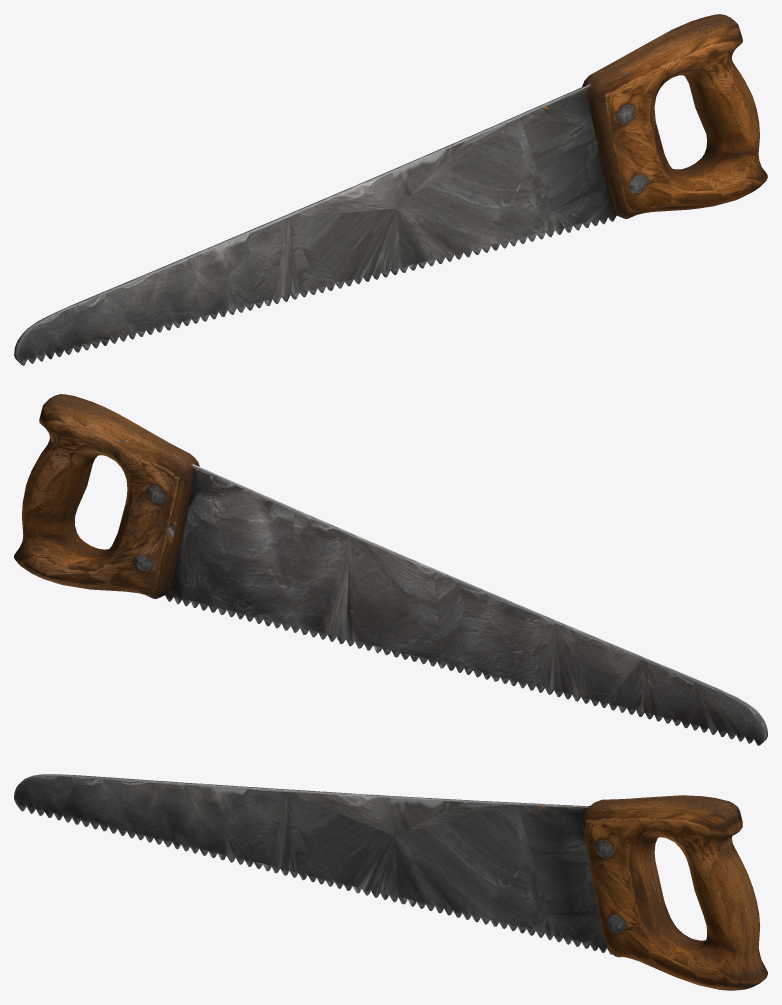
File: Handsaw_Iron_Optimized.glb
The picture shows the model from 3 angles, top to bottom: view 1: azimuth 30°, elevation 25°; view 2: azimuth 150°, elevation 25°; view 3: azimuth 330°, elevation 25°; orthographic projection.
Visible parts, largest first — view 1: Handsaw_Iron; view 2: Handsaw_Iron; view 3: Handsaw_Iron.
Part boxes in pixels (x1,y1,x2,y2): Handsaw_Iron: [14, 14, 767, 365]; Handsaw_Iron: [14, 394, 767, 745]; Handsaw_Iron: [14, 774, 767, 990].
Size of the model in its own units: 1.9 by 0.4425 by 0.1231.
Materials: 1 (1 with a texture image).
